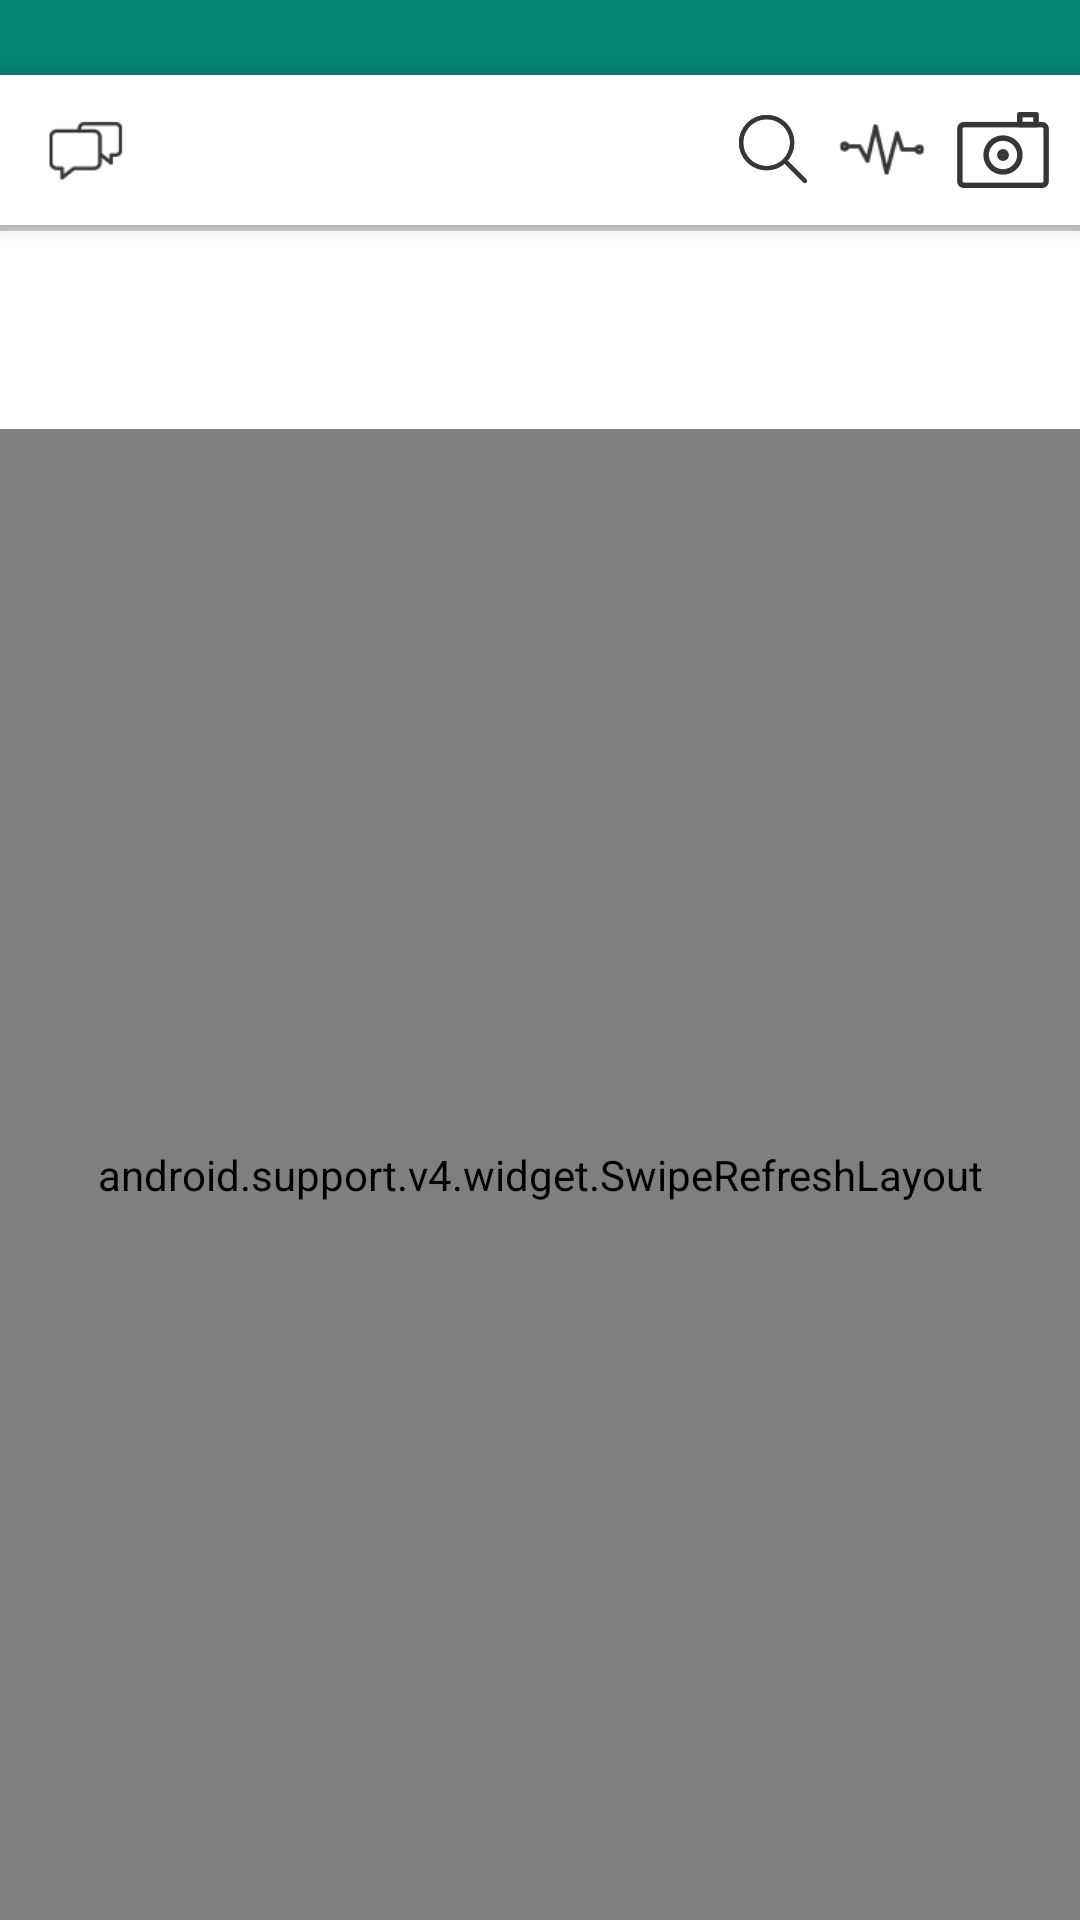

Icons on this 1080x1920 Android screen, each with the point to tap as [x,y]:
camera: [1003,150]
chat: [86,150]
search: [773,149]
